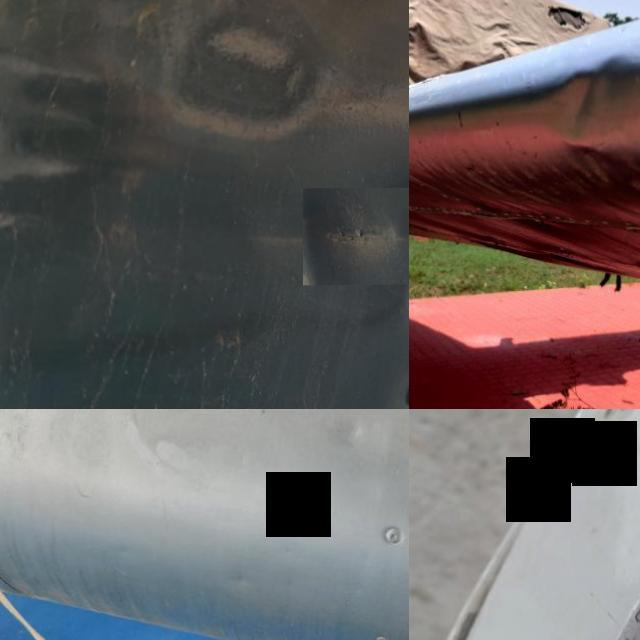Crack: (597, 525, 640, 640)
Dent: (133, 0, 358, 168), (532, 35, 640, 157), (302, 188, 409, 285), (322, 409, 380, 458)
